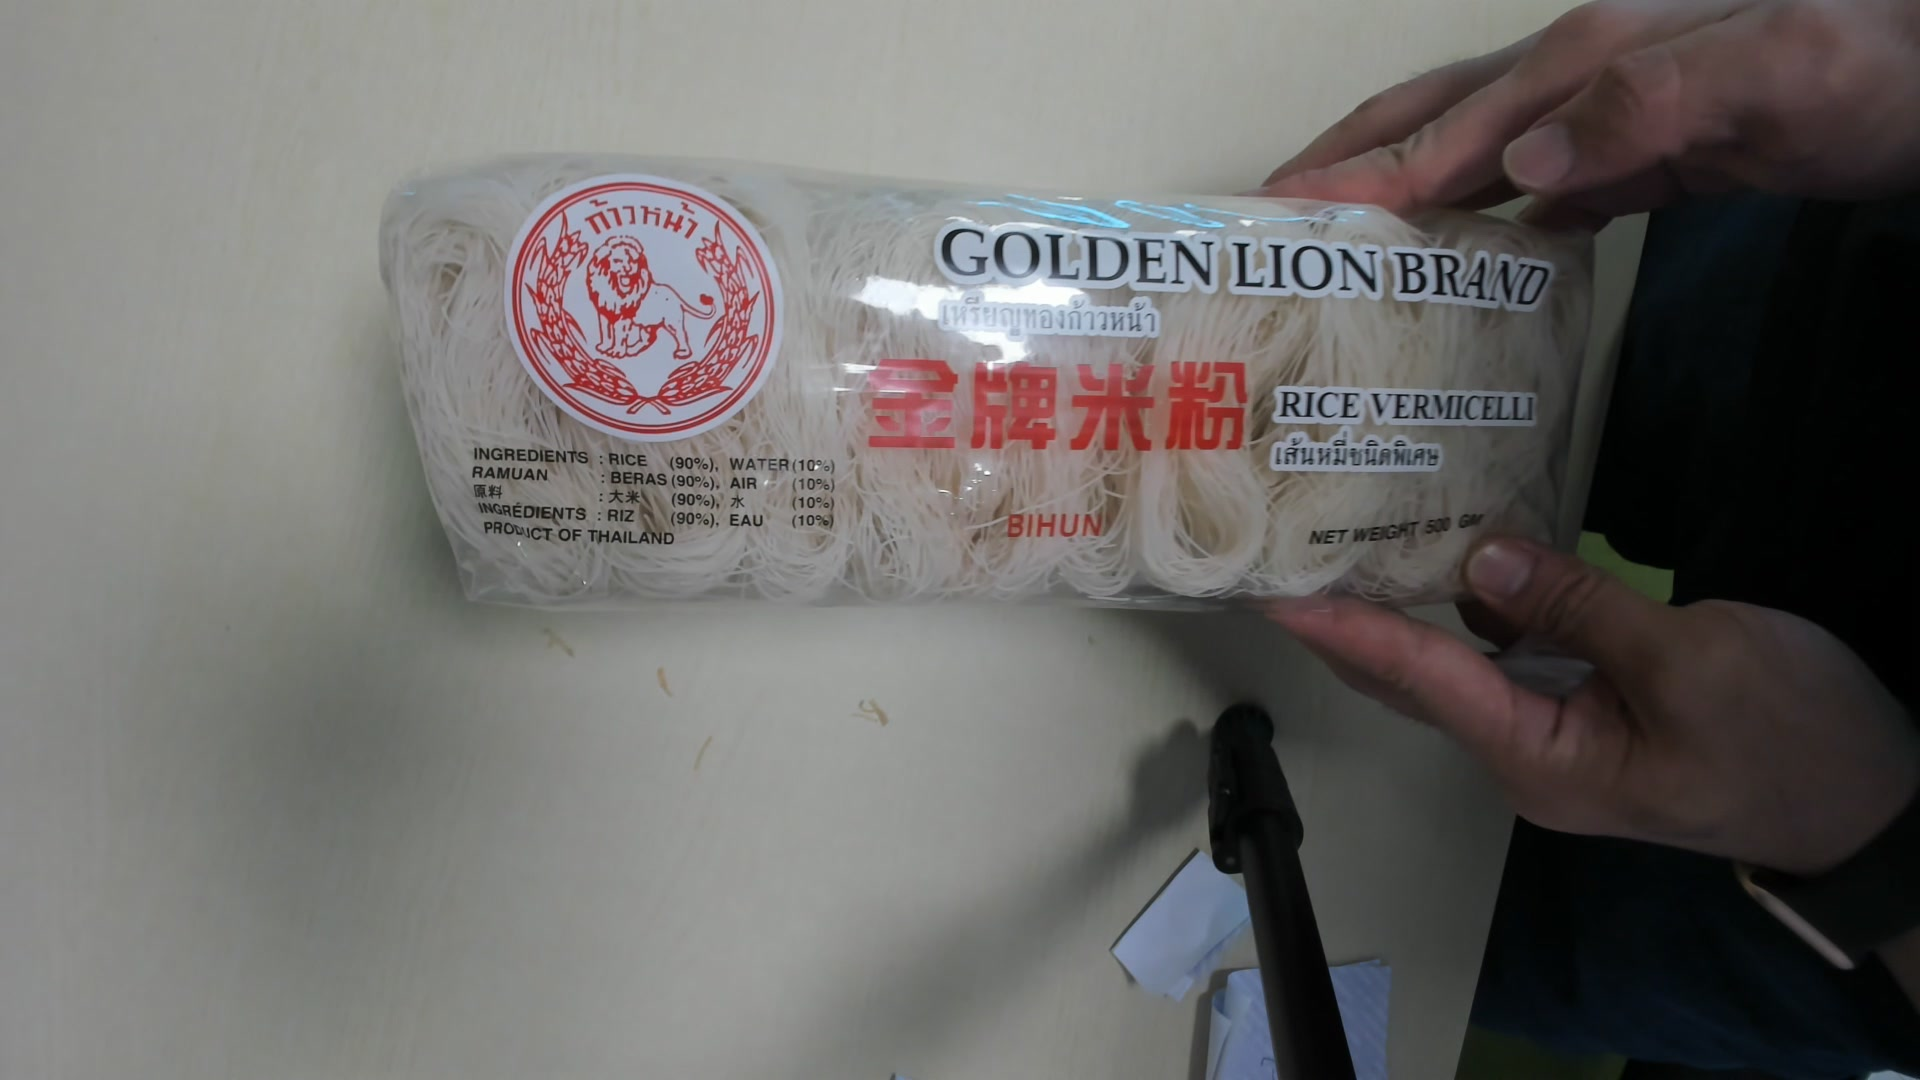BeeHoonVermicelli_500-599g_Halal_NonHealthy: (363, 160, 1578, 626)
